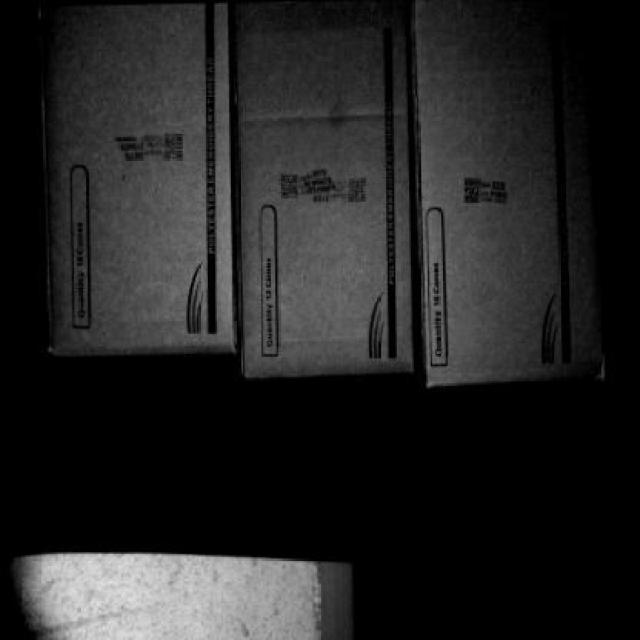box: (418, 0, 610, 382), (232, 0, 418, 383), (41, 2, 238, 356)
